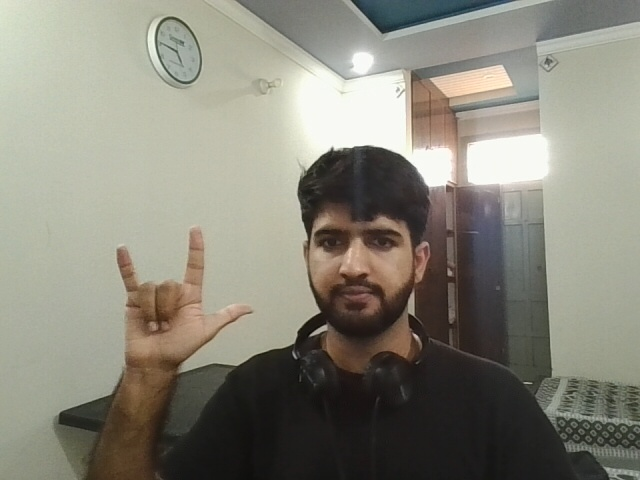I Love You: (102, 223, 277, 380)
